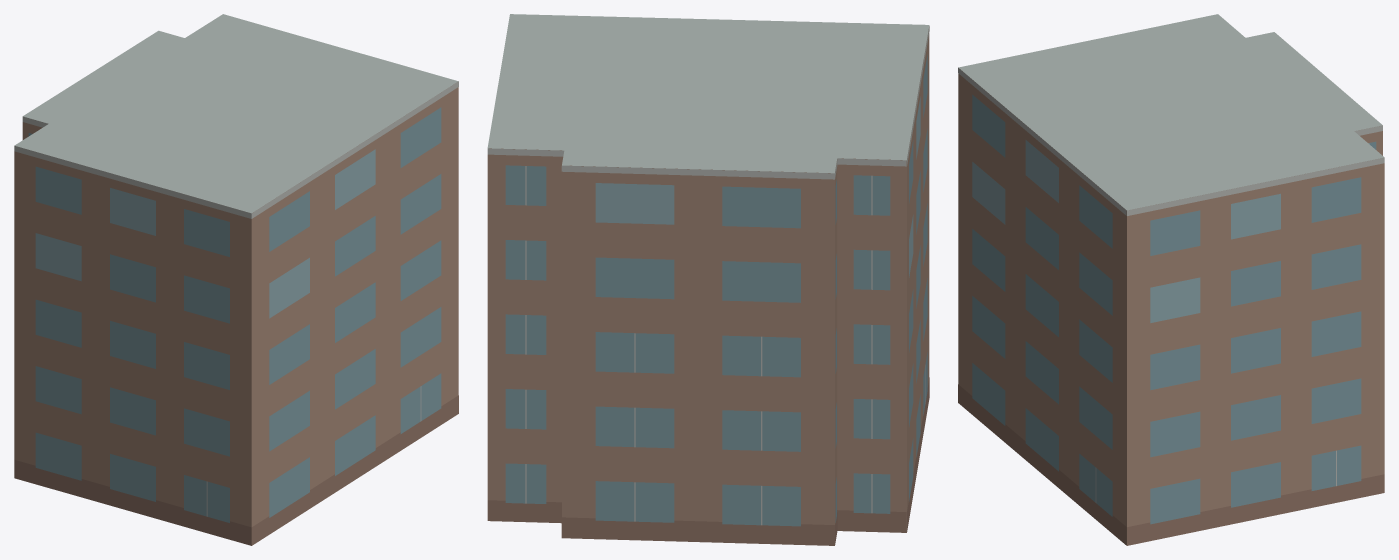
File: survey-upis-32912713.glb
3 views of the same model, side by side, from view 1: azimuth 30°, elevation 25°; view 2: azimuth 150°, elevation 25°; view 3: azimuth 270°, elevation 25° (orthographic). The views are drawn at different scales.
Visible parts, largest first — view 1: survey-upis-32912713.tmp; view 2: survey-upis-32912713.tmp; view 3: survey-upis-32912713.tmp.
Boxes of the visible parts, box(x1,y1,x2,y2) form: survey-upis-32912713.tmp: box(14, 14, 458, 545); survey-upis-32912713.tmp: box(487, 14, 929, 545); survey-upis-32912713.tmp: box(958, 14, 1384, 545).
Size of the model in its own units: 18.17 by 14.45 by 16.66.
